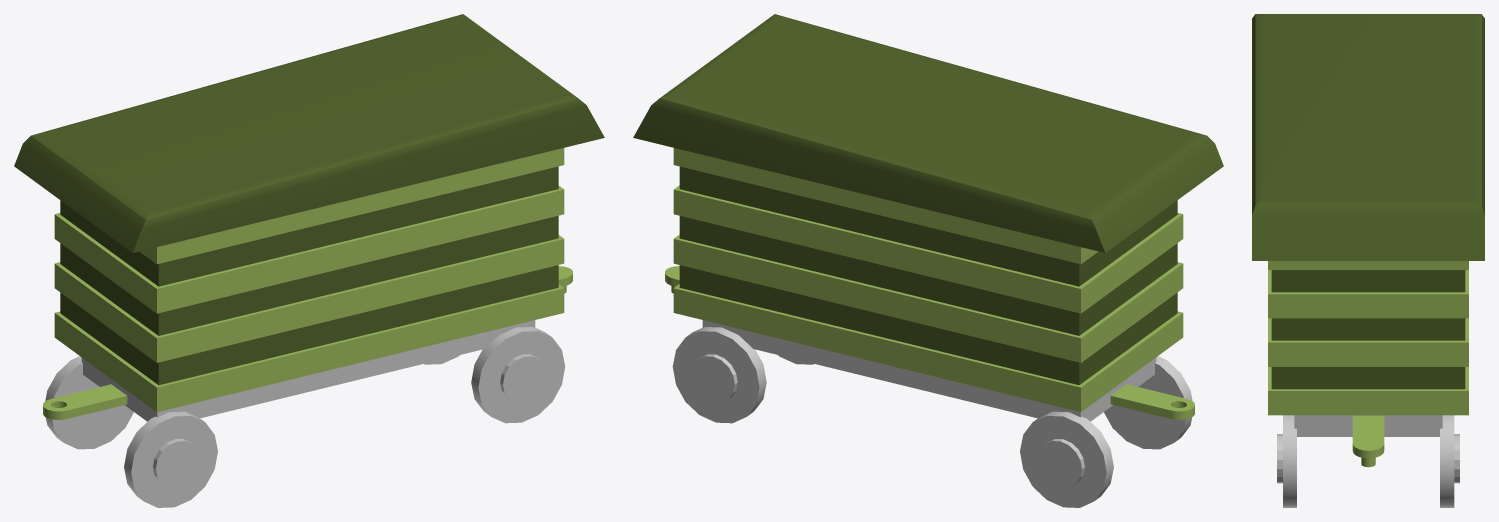
Rendered from Cattle_Cart_FBX.fbx.
3 renders of one model, left to right at view 1: azimuth 30°, elevation 25°; view 2: azimuth 150°, elevation 25°; view 3: azimuth 270°, elevation 25°, orthographic.
Parts seen in each view (by area): view 1: Cattle_Cart_Roof1, Cattle_Cart_Walls1, Cattle_Cart_Wheel2, Cattle_Cart_Wheel3, Cart, Cattle_Cart_Wheel1; view 2: Cattle_Cart_Roof1, Cattle_Cart_Walls1, Cattle_Cart_Wheel1, Cattle_Cart_Wheel4, Cart, Cattle_Cart_Wheel2; view 3: Cattle_Cart_Roof1, Cattle_Cart_Walls1, Cart, Cattle_Cart_Wheel4, Cattle_Cart_Wheel3.
Part boxes in pixels (x1=…): Cattle_Cart_Roof1: x1=14, y1=14, x2=604, y2=385; Cattle_Cart_Walls1: x1=43, y1=148, x2=572, y2=419; Cattle_Cart_Wheel2: x1=124, y1=411, x2=217, y2=507; Cattle_Cart_Wheel3: x1=471, y1=327, x2=565, y2=423; Cart: x1=81, y1=320, x2=535, y2=421; Cattle_Cart_Wheel1: x1=45, y1=356, x2=133, y2=449; Cattle_Cart_Roof1: x1=633, y1=14, x2=1223, y2=384; Cattle_Cart_Walls1: x1=665, y1=148, x2=1194, y2=419; Cattle_Cart_Wheel1: x1=1020, y1=411, x2=1113, y2=507; Cattle_Cart_Wheel4: x1=672, y1=327, x2=766, y2=423; Cart: x1=702, y1=320, x2=1156, y2=421; Cattle_Cart_Wheel2: x1=1104, y1=356, x2=1192, y2=449; Cattle_Cart_Roof1: x1=1252, y1=14, x2=1484, y2=389; Cattle_Cart_Walls1: x1=1268, y1=261, x2=1468, y2=467; Cart: x1=1294, y1=415, x2=1442, y2=436; Cattle_Cart_Wheel4: x1=1440, y1=415, x2=1459, y2=507; Cattle_Cart_Wheel3: x1=1277, y1=415, x2=1296, y2=507.
Bounding box in the file's own units: 971 × 575 × 379.
